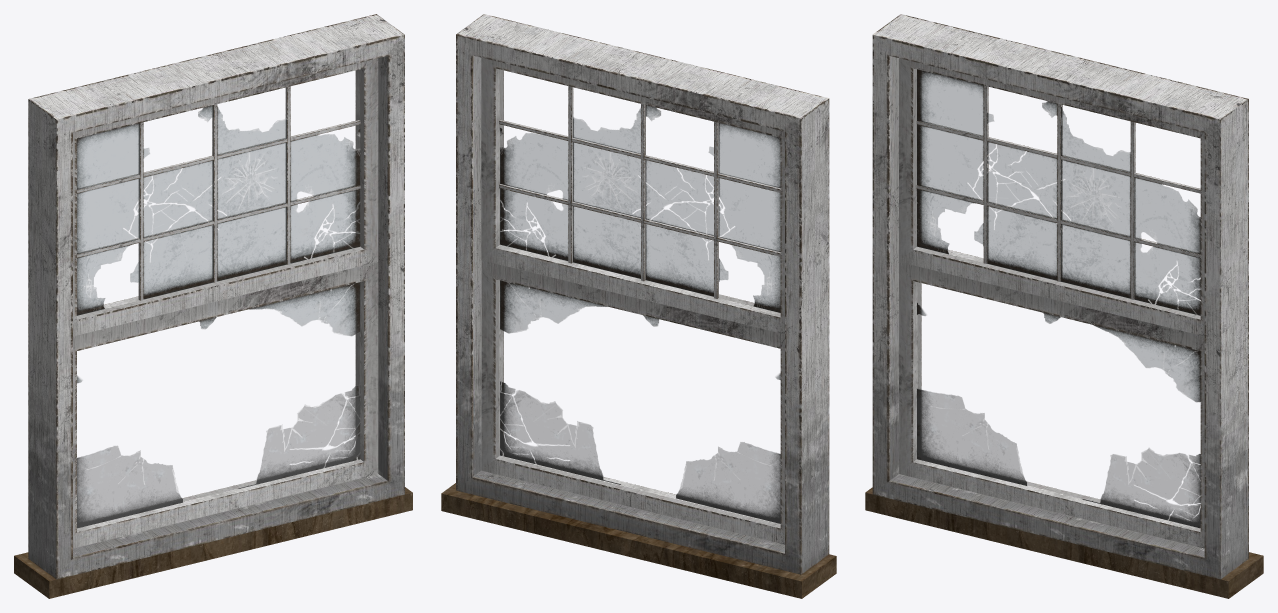
Rendered from broken_window_01 (1).glb.
3 renders of one model, left to right at view 1: azimuth 30°, elevation 25°; view 2: azimuth 150°, elevation 25°; view 3: azimuth 330°, elevation 25°, orthographic.
Parts seen in each view (by area): view 1: Window_001, Glass_001, Frame_001; view 2: Window_001, Glass_001, Frame_001; view 3: Window_001, Glass_001, Frame_001.
Part boxes in pixels (bbox=[...]): Window_001: bbox=[28, 14, 404, 579]; Glass_001: bbox=[77, 105, 360, 528]; Frame_001: bbox=[14, 487, 412, 598]; Window_001: bbox=[456, 14, 829, 574]; Glass_001: bbox=[500, 105, 780, 523]; Frame_001: bbox=[441, 483, 836, 598]; Window_001: bbox=[872, 14, 1248, 579]; Glass_001: bbox=[917, 69, 1200, 528]; Frame_001: bbox=[865, 487, 1263, 598].
Bounding box in the file's own units: 1.59 × 2 × 0.2661.
Materials: 2 (2 with a texture image).
